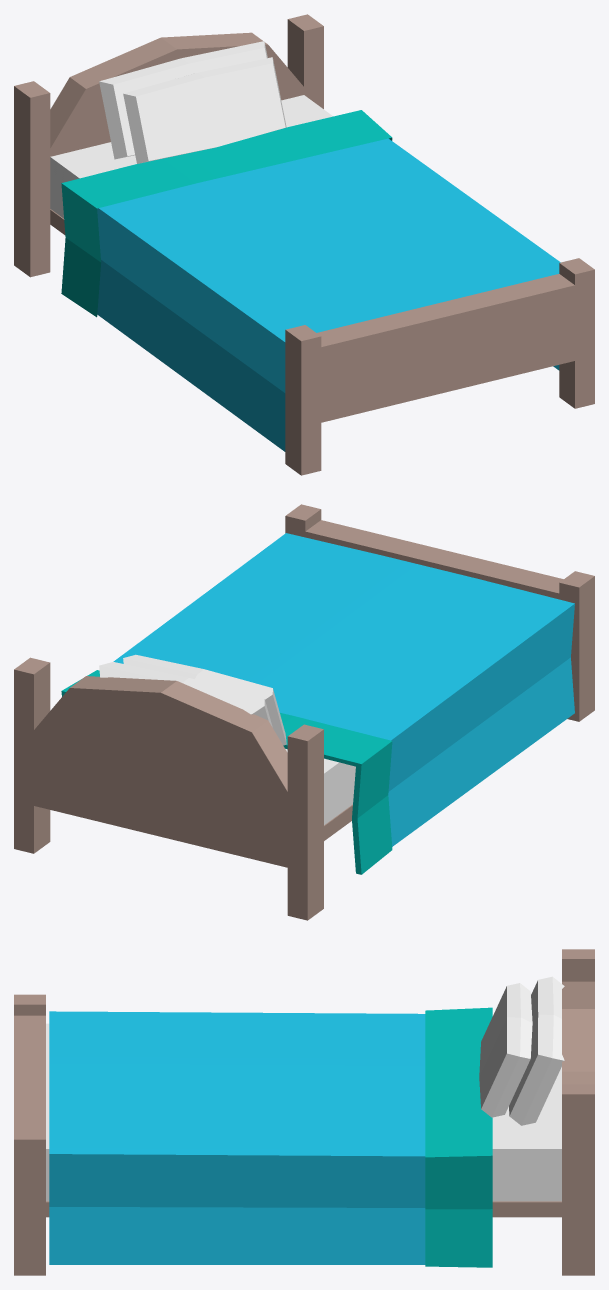
The model's file is bed01.gltf.
3 renders of one model, top to bottom at view 1: azimuth 30°, elevation 25°; view 2: azimuth 150°, elevation 25°; view 3: azimuth 270°, elevation 25°, orthographic.
Parts seen in each view (by area): view 1: Bed_01_Cube.000; view 2: Bed_01_Cube.000; view 3: Bed_01_Cube.000.
Part boxes in pixels (<box>): Bed_01_Cube.000: <box>14,14,594,475</box>; Bed_01_Cube.000: <box>14,504,594,920</box>; Bed_01_Cube.000: <box>14,949,594,1275</box>.
Size of the model in its own units: 1.05 by 0.6416 by 1.74.
